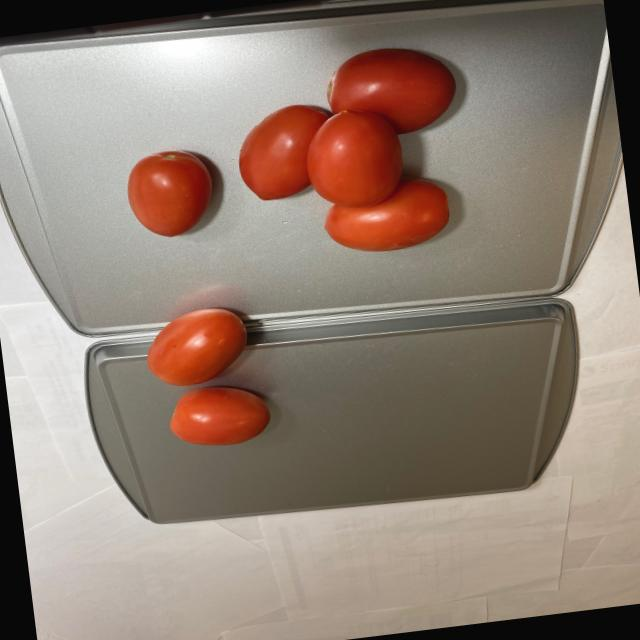tomato: (105, 38, 482, 282), (142, 293, 272, 454)
